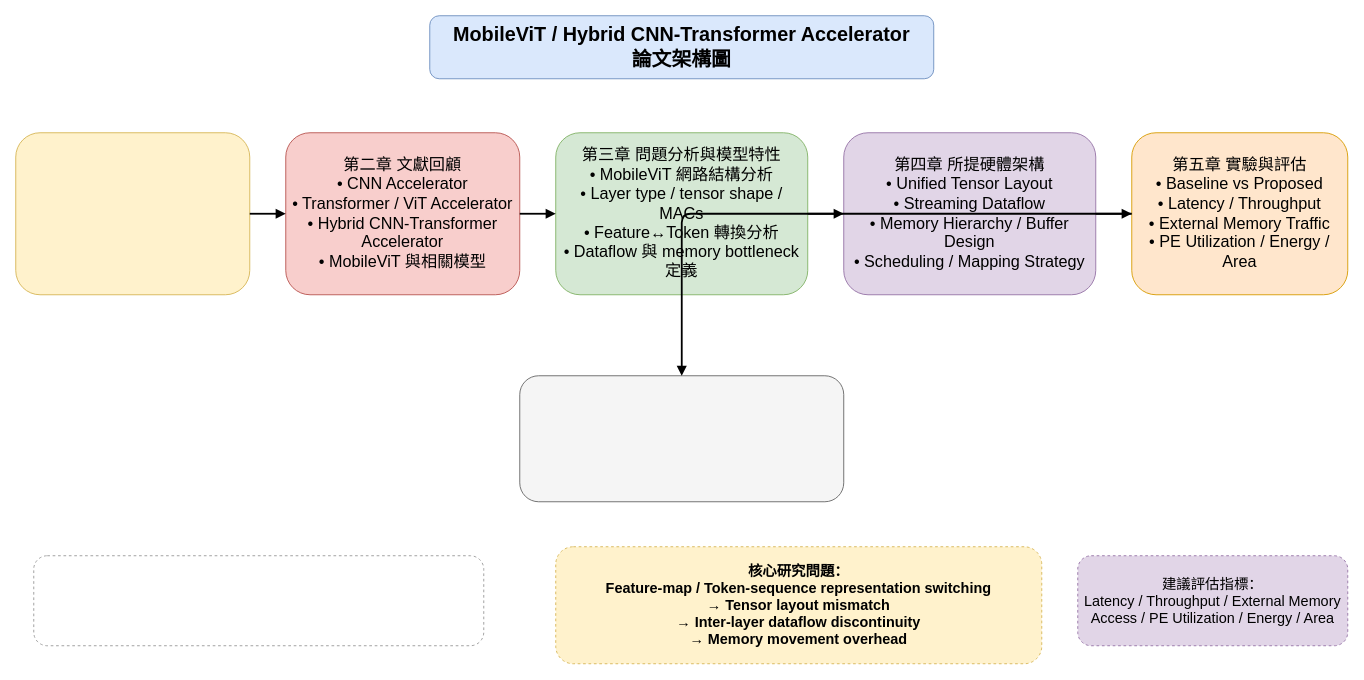
Some shapes in this 1364 by 680 pixel diagram are drawn without their labels. Each missing label, with the centre of its shape:
"主線： Hybrid Model → 硬體挑戰 → MobileViT 問題分析 → 所提架構 → 實驗驗證 → 結論" belongs at point 258,600.
"第一章 緒論 • 研究背景 • 研究動機與問題描述 • 問題定義 • 研究目標與解決方向 • 論文架構" belongs at point 132,213.
"第六章 結論與未來工作 • 研究貢獻總結 • 限制與討論 • 未來延伸方向" belongs at point 681,438.
